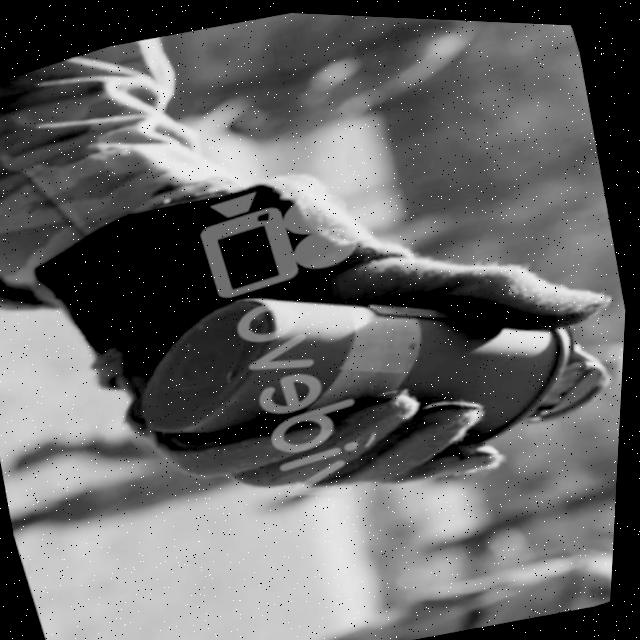grenade: (105, 171, 633, 554)
